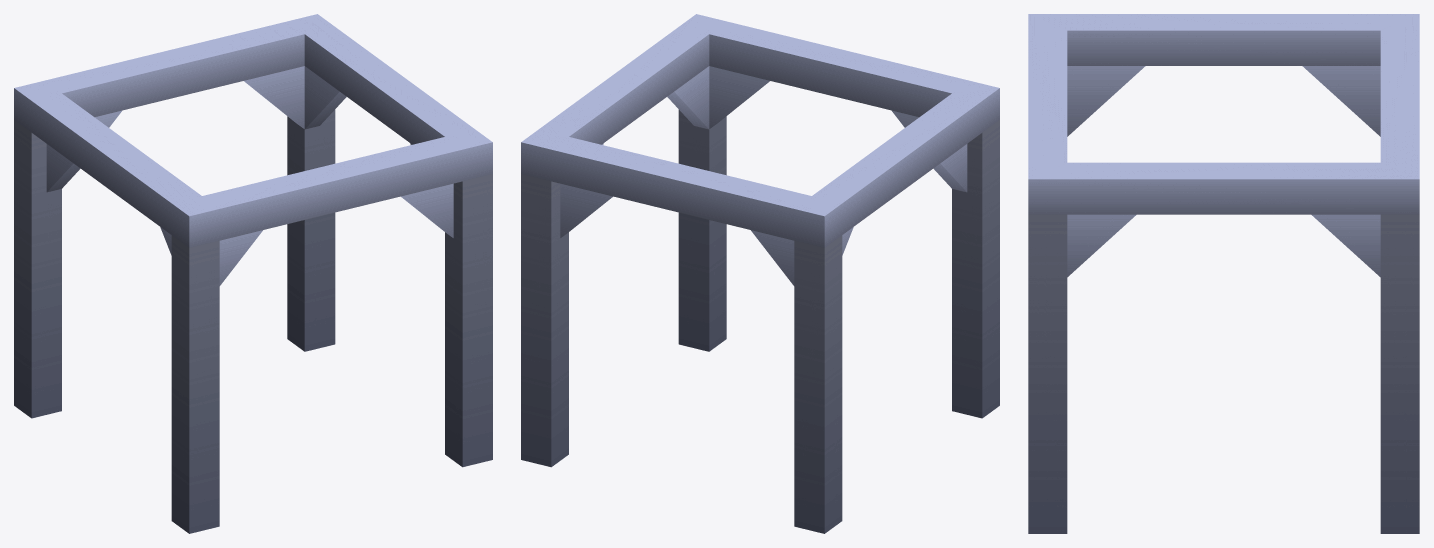
Rendered from structure.glb.
3 views of the same model, side by side, from view 1: azimuth 30°, elevation 25°; view 2: azimuth 150°, elevation 25°; view 3: azimuth 270°, elevation 25° (orthographic). The views are drawn at different scales.
Visible parts, largest first — view 1: Group (×10); view 2: Group (×10); view 3: Group (×7).
Part boxes in pixels (x1,y1,x2,y2): Group (×10): (14,14,492,533); Group (×10): (521,14,999,533); Group (×7): (1028,14,1419,533).
Size of the model in its own units: 1 by 1 by 1.
1 material, 1 textured.
